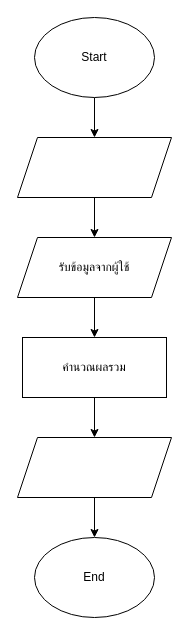
This 189x635 diagram has some shape labels left out. Here are the shapes that lost their labels. From the top down, the centre of each, then its label:
At point (94, 167): "แสดงข้อความ".
At point (94, 467): "แสดงผลลัพธ์".
